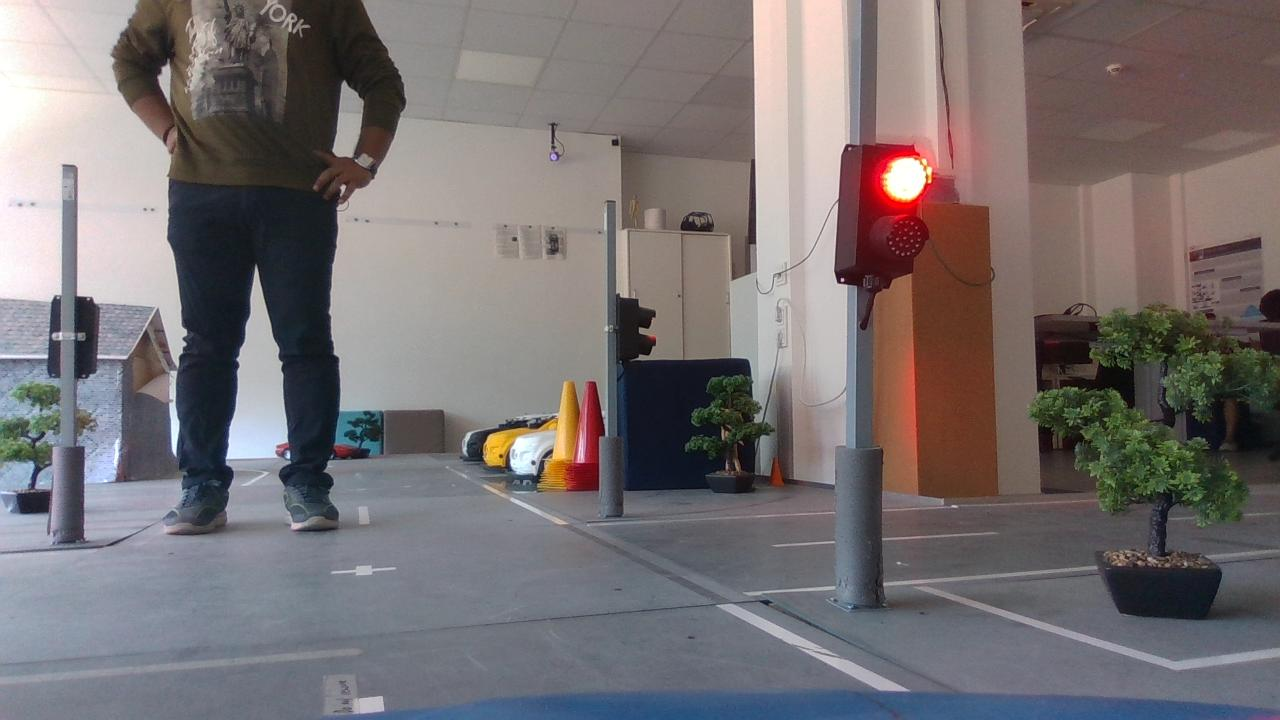traffic_light_red: (825, 133, 942, 312)
